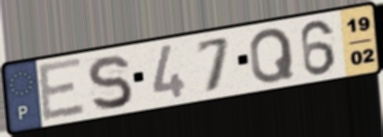4: (150, 42, 188, 102)
6: (300, 17, 338, 78)
7: (195, 34, 234, 94)
E: (35, 56, 88, 125)
Q: (248, 25, 297, 86)
S: (85, 53, 136, 113)
